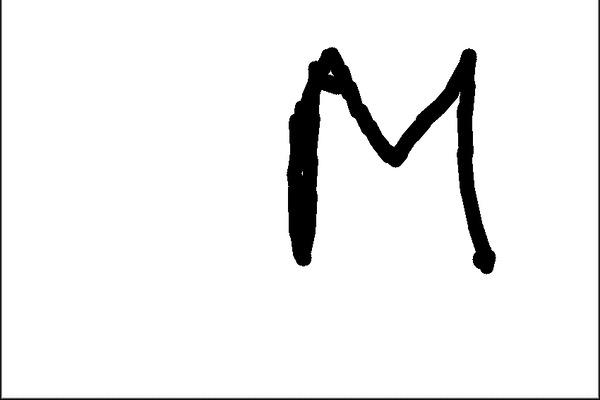M: (285, 40, 500, 276)
